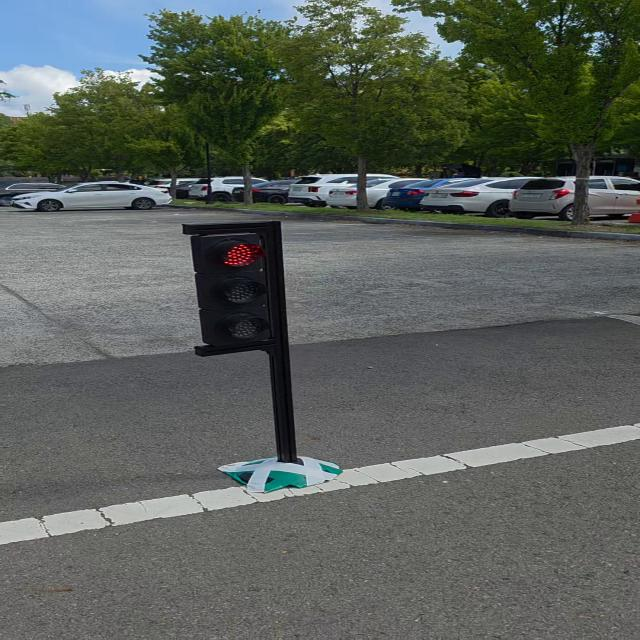red: (180, 226, 282, 352)
